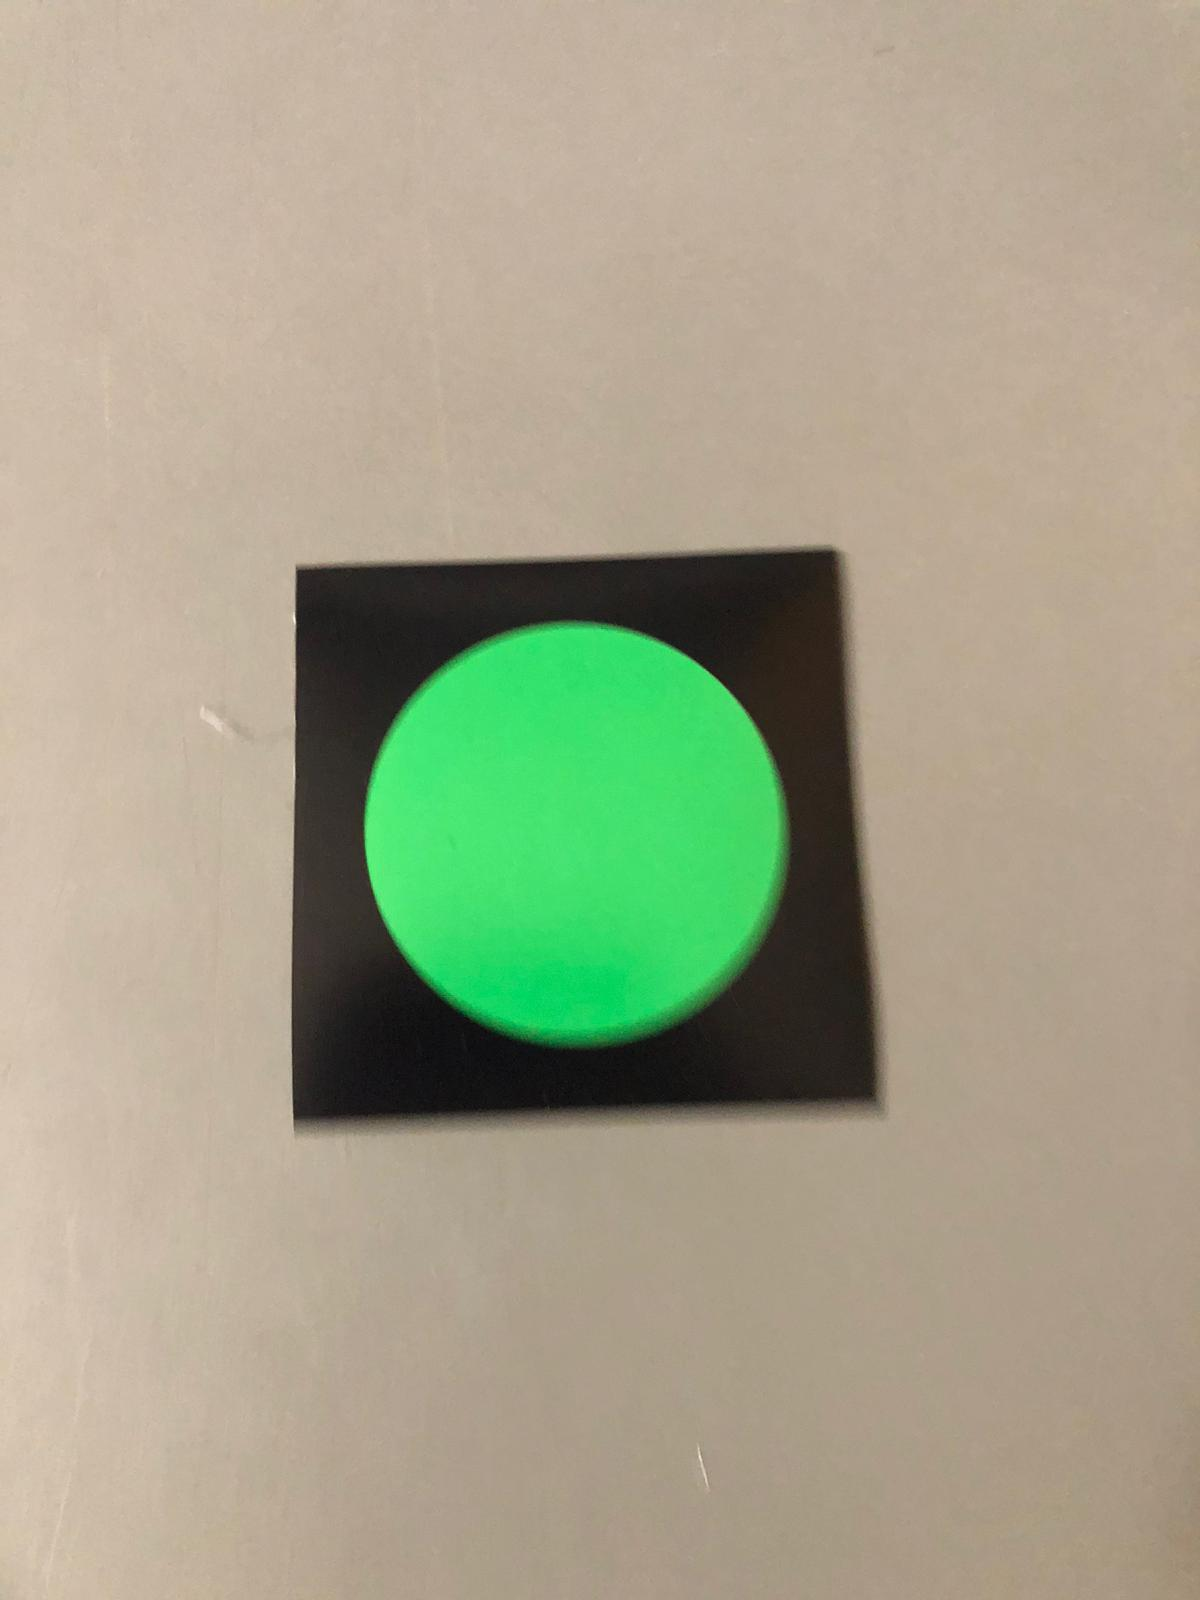Circle: (310, 569, 855, 1073)
